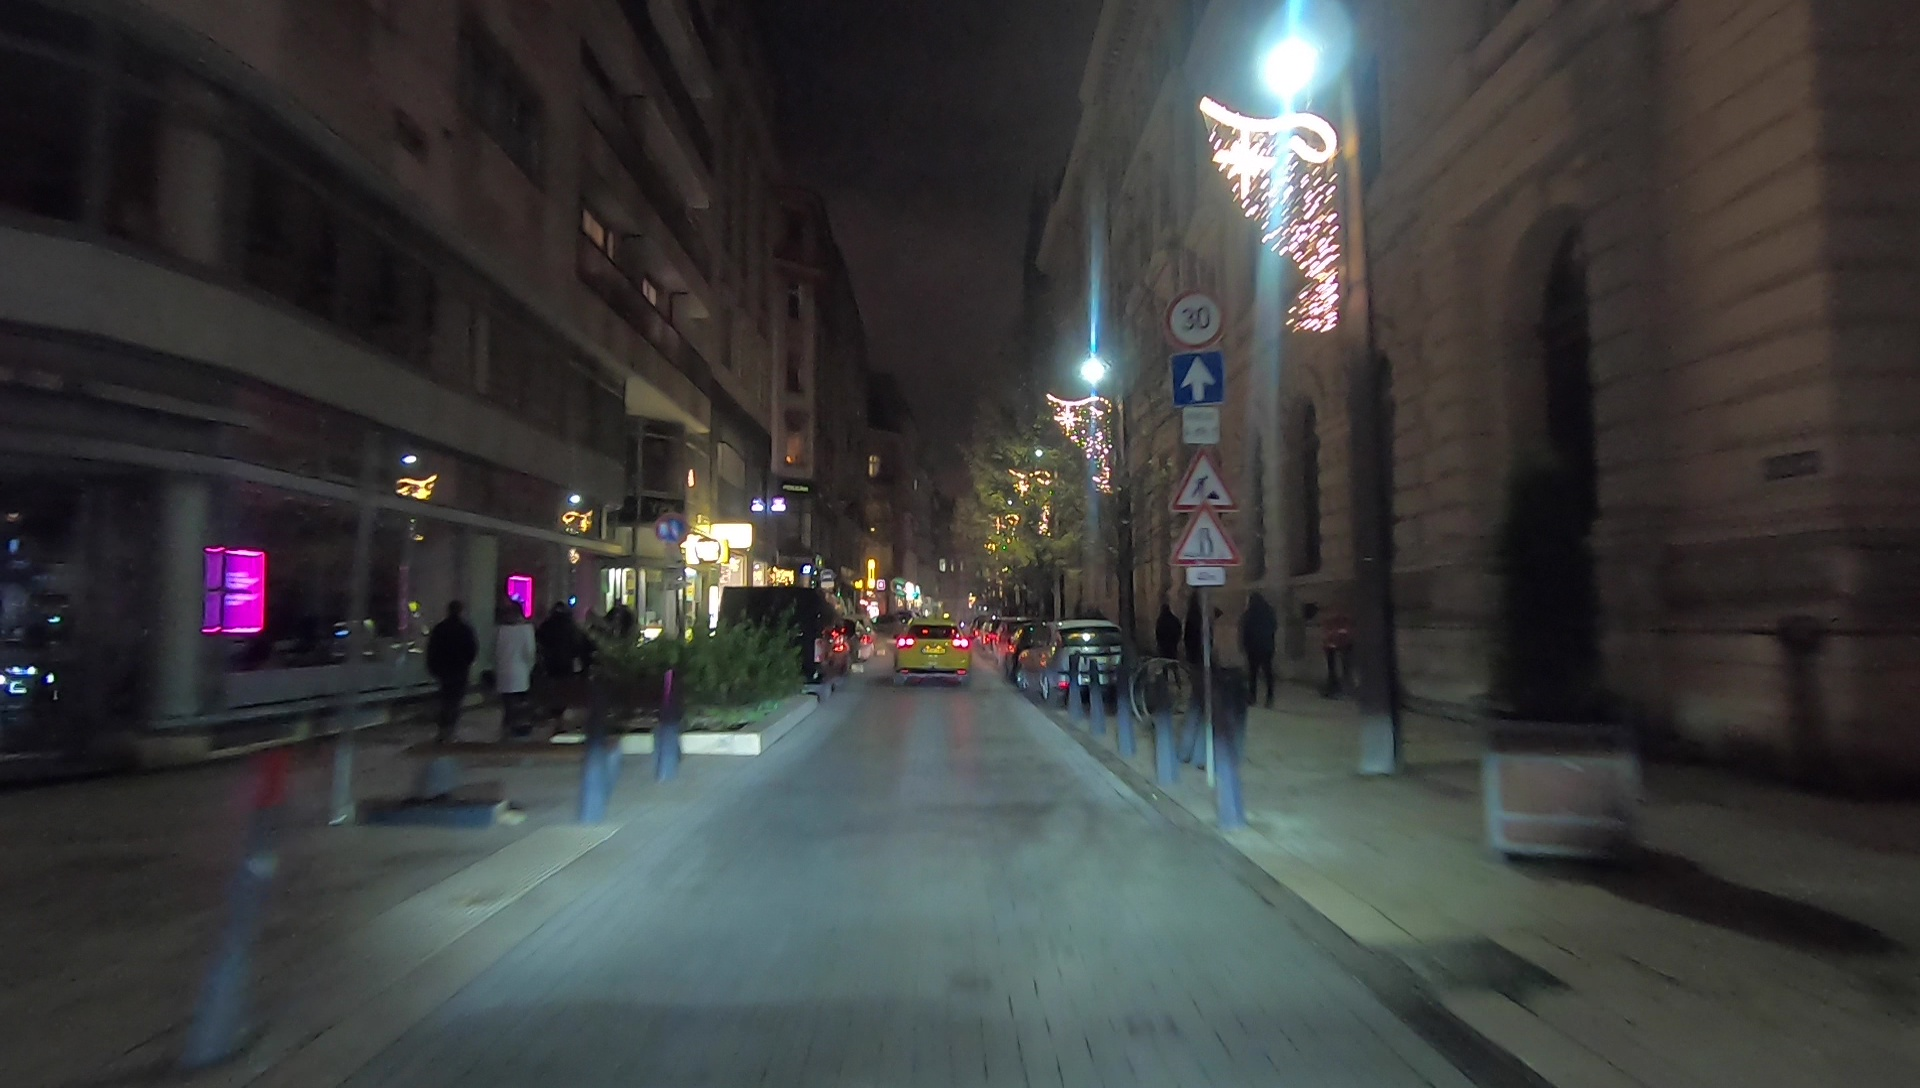person: (426, 600, 478, 749), (539, 594, 584, 756), (489, 598, 535, 750), (1239, 591, 1280, 707), (1182, 594, 1219, 707), (1154, 599, 1182, 693)
